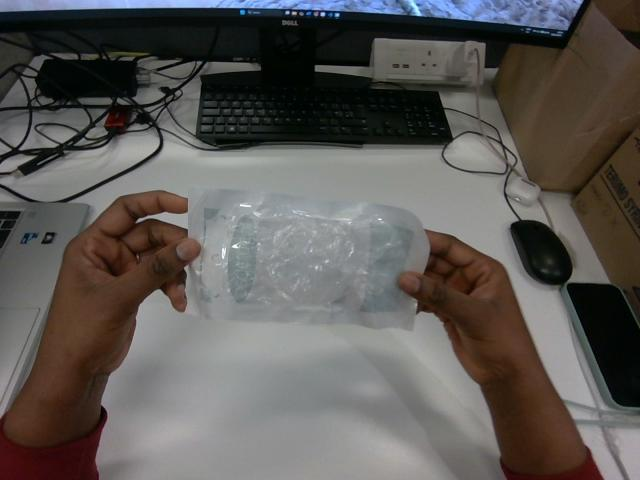gallipot: (187, 187, 429, 328)
